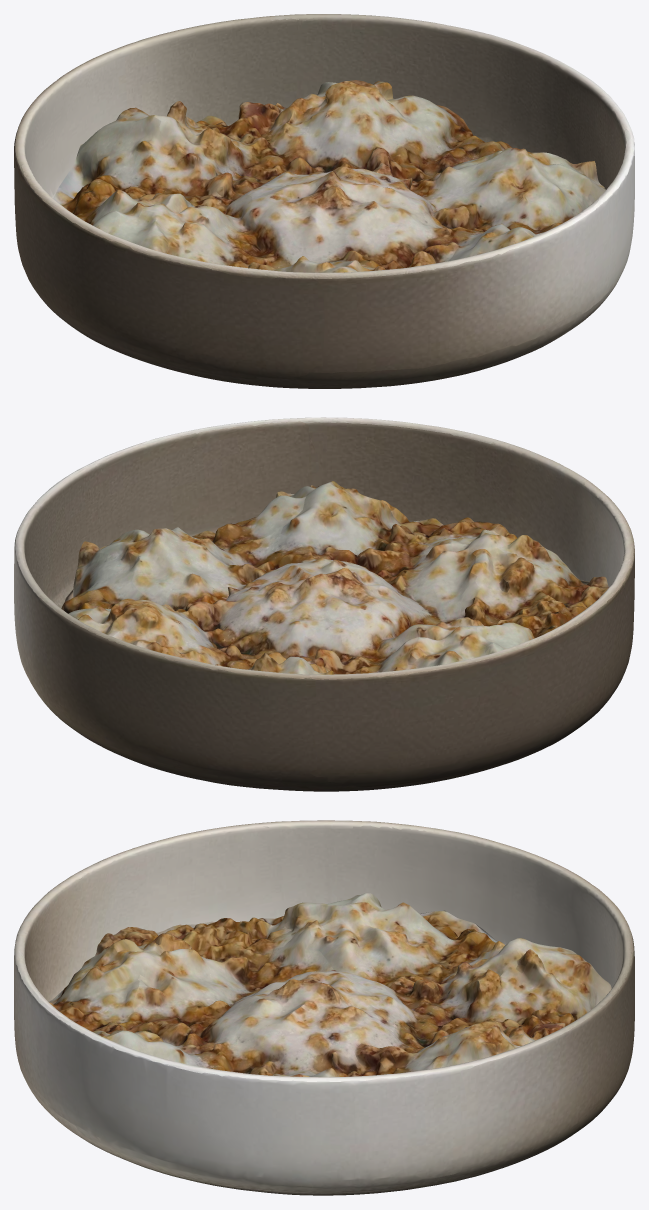
The model's file is set.01.001.glb.
3 views of the same model, one above another, from view 1: azimuth 30°, elevation 25°; view 2: azimuth 150°, elevation 25°; view 3: azimuth 270°, elevation 25° (orthographic).
Parts seen in each view (by area): view 1: /Root/Scenes/Scene/Object_37/Object_39/Object_40/Submesh_0, /Root/Scenes/Scene/Object_37/Object_38/Submesh_0; view 2: /Root/Scenes/Scene/Object_37/Object_39/Object_40/Submesh_0, /Root/Scenes/Scene/Object_37/Object_38/Submesh_0; view 3: /Root/Scenes/Scene/Object_37/Object_39/Object_40/Submesh_0, /Root/Scenes/Scene/Object_37/Object_38/Submesh_0.
Boxes of the visible parts, <box> form: /Root/Scenes/Scene/Object_37/Object_39/Object_40/Submesh_0: <box>14,14,634,388</box>; /Root/Scenes/Scene/Object_37/Object_38/Submesh_0: <box>53,80,605,272</box>; /Root/Scenes/Scene/Object_37/Object_39/Object_40/Submesh_0: <box>14,417,634,791</box>; /Root/Scenes/Scene/Object_37/Object_38/Submesh_0: <box>61,481,609,674</box>; /Root/Scenes/Scene/Object_37/Object_39/Object_40/Submesh_0: <box>14,820,634,1195</box>; /Root/Scenes/Scene/Object_37/Object_38/Submesh_0: <box>49,893,611,1077</box>.
Bounding box in the file's own units: 0.2147 × 0.0514 × 0.2146.
2 materials, 2 textured.
